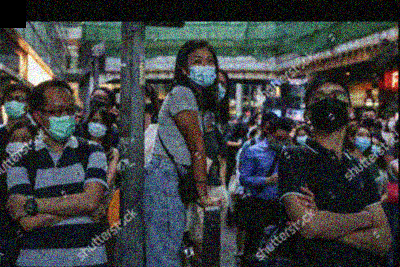with_mask: (308, 86, 350, 131), (44, 101, 78, 142), (187, 54, 216, 86), (6, 134, 32, 157), (4, 95, 28, 118), (88, 116, 108, 138), (353, 131, 372, 153), (90, 93, 110, 112), (270, 133, 291, 150), (215, 77, 228, 101), (363, 113, 378, 128), (296, 130, 310, 145), (371, 141, 383, 158)
